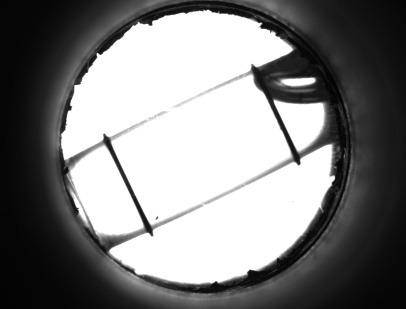line: (108, 158, 150, 212), (265, 111, 301, 143)
